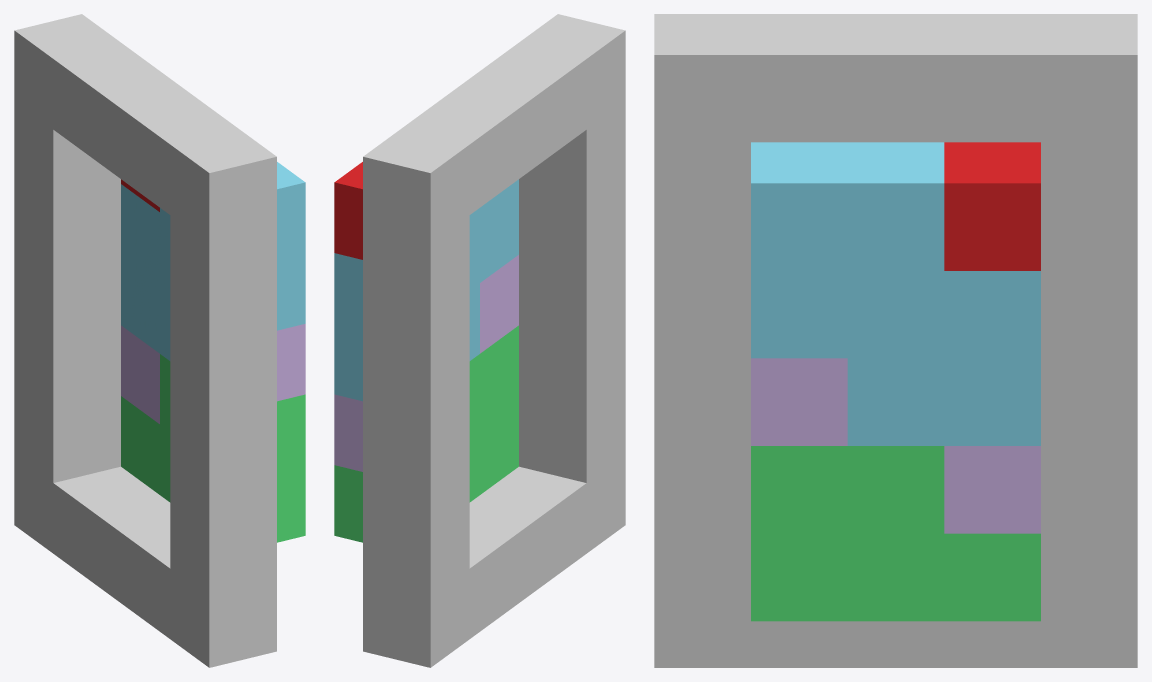
File: Kitchen_cabinets-16.obj
The picture shows the model from 3 angles, left to right: view 1: azimuth 30°, elevation 25°; view 2: azimuth 150°, elevation 25°; view 3: azimuth 270°, elevation 25°; orthographic projection. The views are drawn at different scales.
Size of the model in its own units: 0.2 by 0.7 by 0.5.
Materials: 1 (1 with a texture image).
